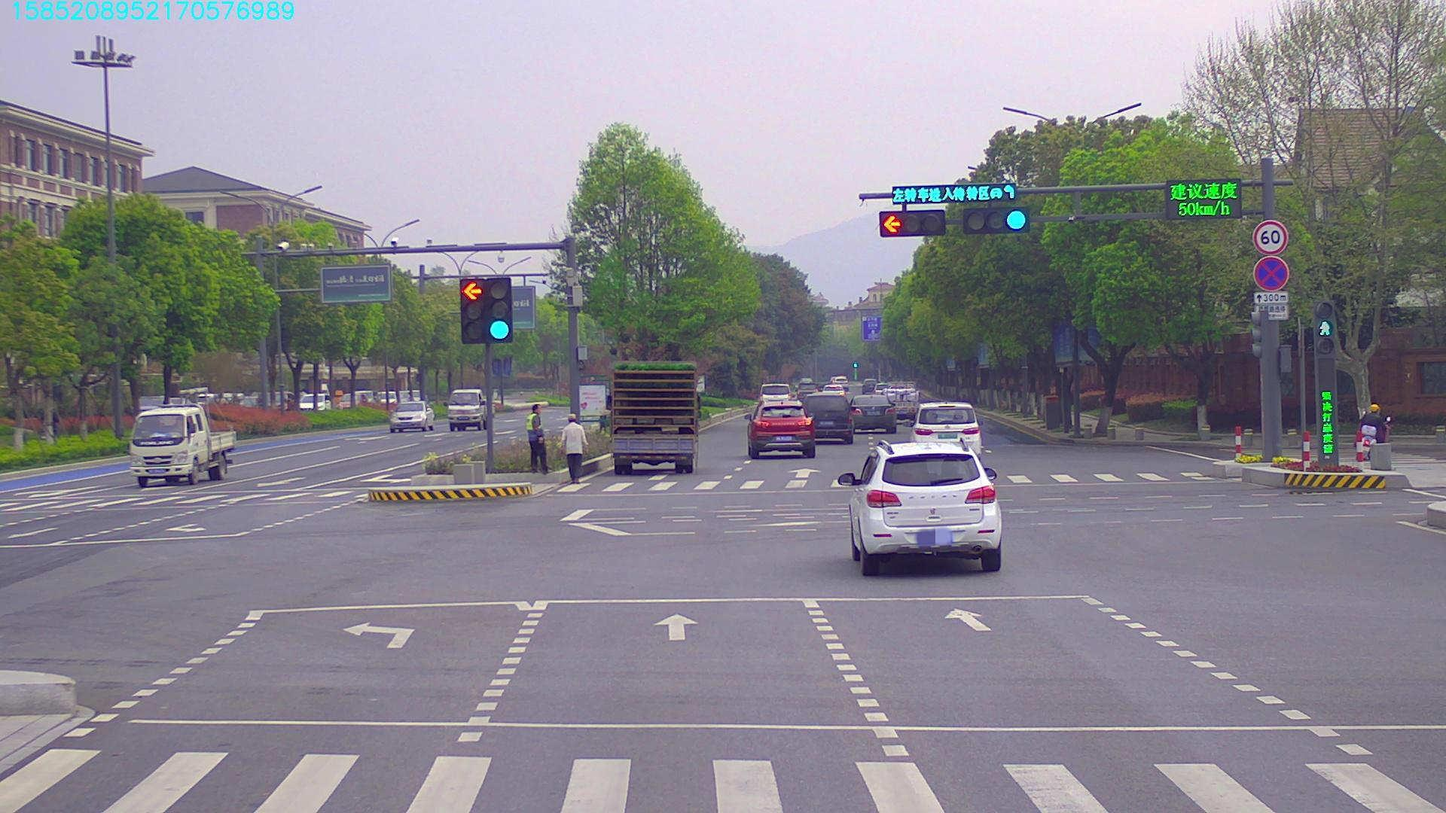green: (961, 209, 1027, 236)
red: (875, 209, 941, 231)
wait_on: (892, 186, 1019, 202)
